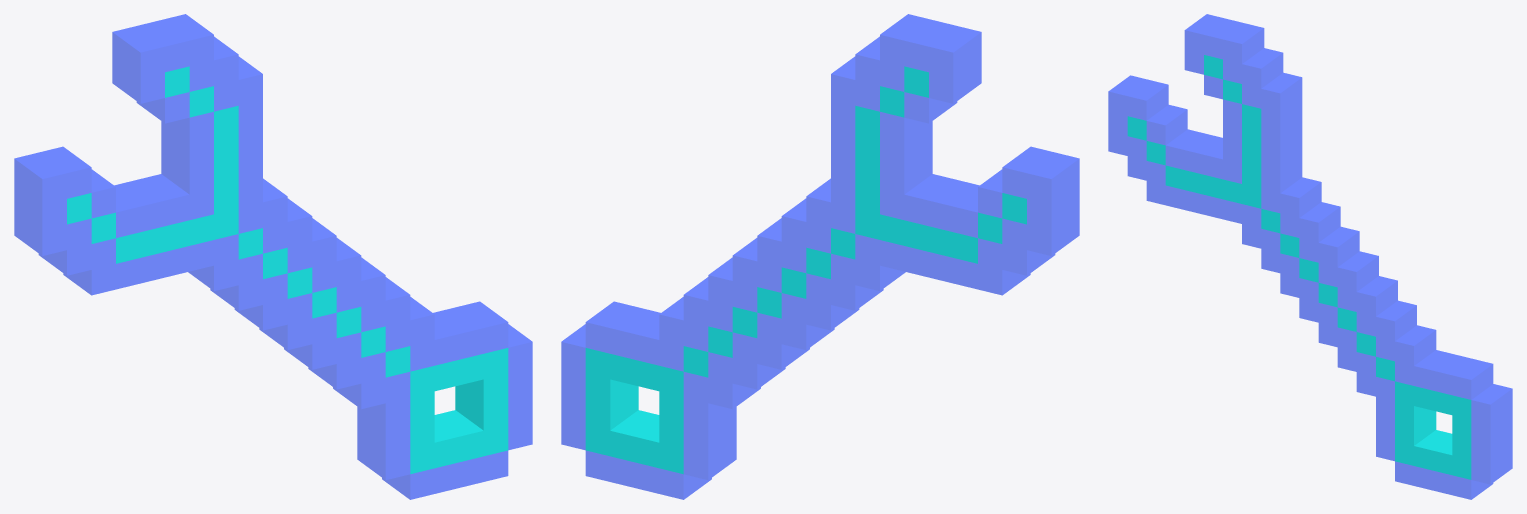
3 renders of one model, left to right at view 1: azimuth 30°, elevation 25°; view 2: azimuth 150°, elevation 25°; view 3: azimuth 330°, elevation 25°, orthographic. The views are drawn at different scales.
Parts seen in each view (by area): view 1: Content; view 2: Content; view 3: Content.
Part boxes in pixels (x1,y1,x2,y2): Content: [14, 14, 532, 499]; Content: [561, 14, 1079, 499]; Content: [1108, 14, 1512, 499].
Size of the model in its own units: 20 by 20 by 2.
